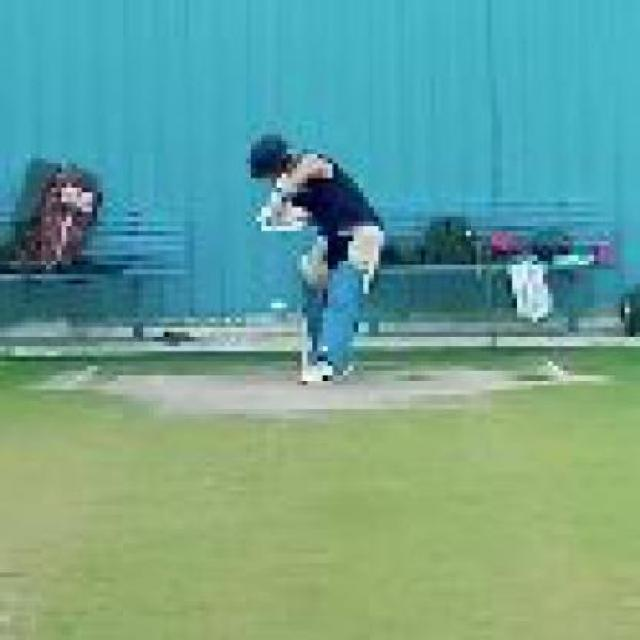ball: (266, 298, 294, 322)
